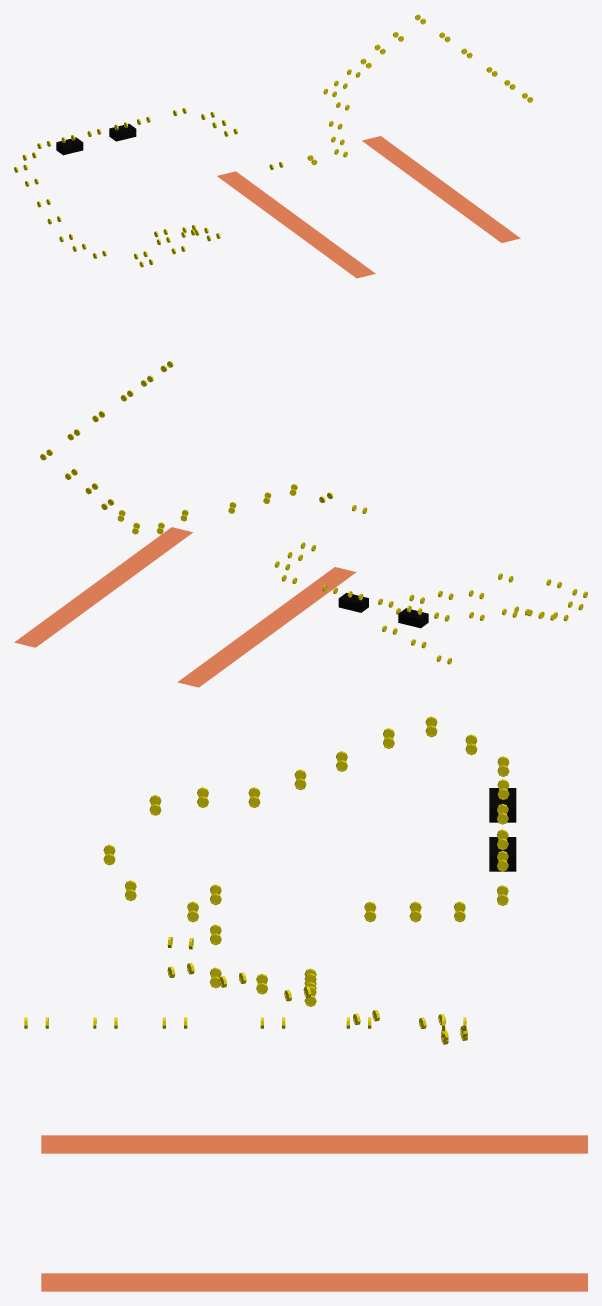
File: parcours2.glb
The picture shows the model from 3 angles, top to bottom: view 1: azimuth 30°, elevation 25°; view 2: azimuth 150°, elevation 25°; view 3: azimuth 270°, elevation 25°; orthographic projection. The views are drawn at different scales.
Visible parts, largest first — view 1: river.001, river, feinte, feinte.001; view 2: river, river.001; view 3: river, river.001.
Part boxes in pixels (<box>): river.001: <box>217,171,375,278</box>; river: <box>362,136,520,242</box>; feinte: <box>56,137,83,155</box>; feinte.001: <box>109,123,136,141</box>; river: <box>14,527,192,647</box>; river.001: <box>177,567,356,687</box>; river: <box>41,1273,587,1291</box>; river.001: <box>41,1135,587,1153</box>.
Size of what is drawn, in the model's own units: 122 by 44 by 66.94.
